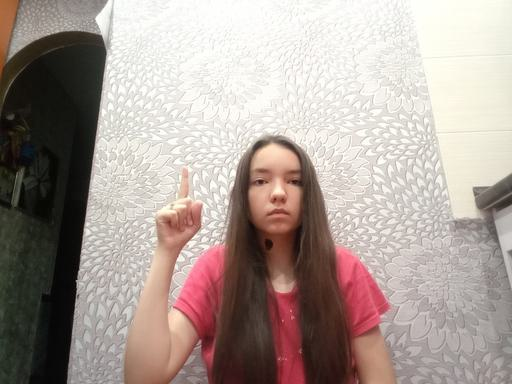one: (153, 166, 204, 251)
